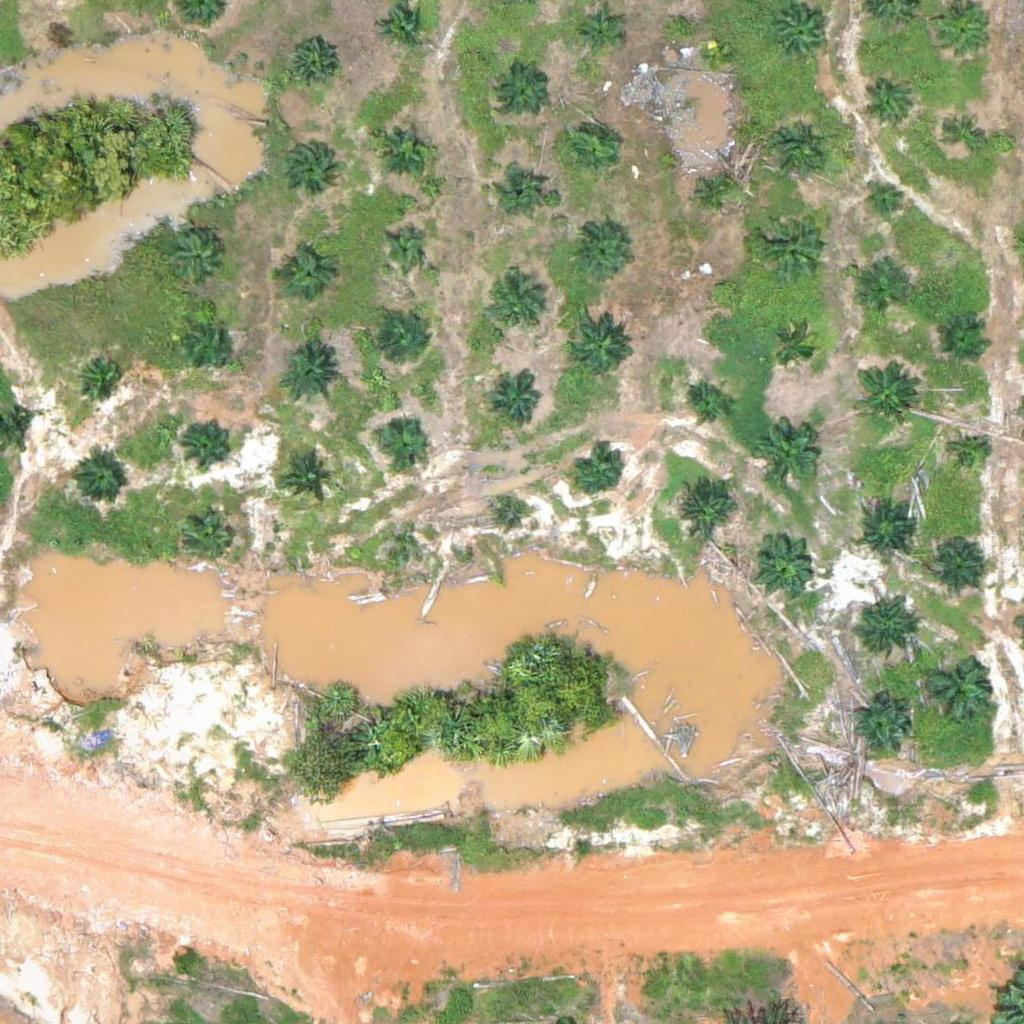Kelapa_Sawit: (756, 202, 831, 278), (917, 651, 992, 727), (753, 422, 816, 485), (278, 345, 341, 408), (850, 599, 913, 662), (749, 531, 812, 594), (849, 696, 912, 759), (852, 363, 914, 426), (569, 311, 631, 374), (487, 274, 549, 337), (767, 119, 829, 182), (566, 221, 628, 284), (373, 116, 435, 179), (672, 476, 734, 539), (772, 6, 834, 68), (857, 501, 919, 563), (924, 529, 986, 591), (376, 412, 426, 463), (380, 313, 430, 364), (278, 250, 328, 301), (172, 235, 222, 286), (183, 318, 233, 369), (183, 416, 233, 467), (283, 455, 333, 506), (286, 37, 336, 88), (377, 1, 427, 52), (491, 378, 541, 428), (572, 445, 622, 495), (498, 162, 548, 212), (497, 66, 547, 116), (938, 6, 988, 56), (851, 269, 901, 319), (564, 122, 614, 172), (283, 140, 333, 190), (74, 456, 124, 506), (937, 316, 987, 366), (768, 325, 818, 375), (683, 382, 733, 432), (691, 165, 741, 215), (185, 517, 235, 567), (77, 352, 127, 402), (863, 78, 913, 128), (579, 12, 617, 50), (953, 437, 991, 475), (866, 180, 904, 218), (947, 116, 985, 154), (386, 229, 423, 267), (497, 498, 522, 523), (700, 40, 725, 65), (707, 275, 732, 300), (402, 532, 427, 557)
